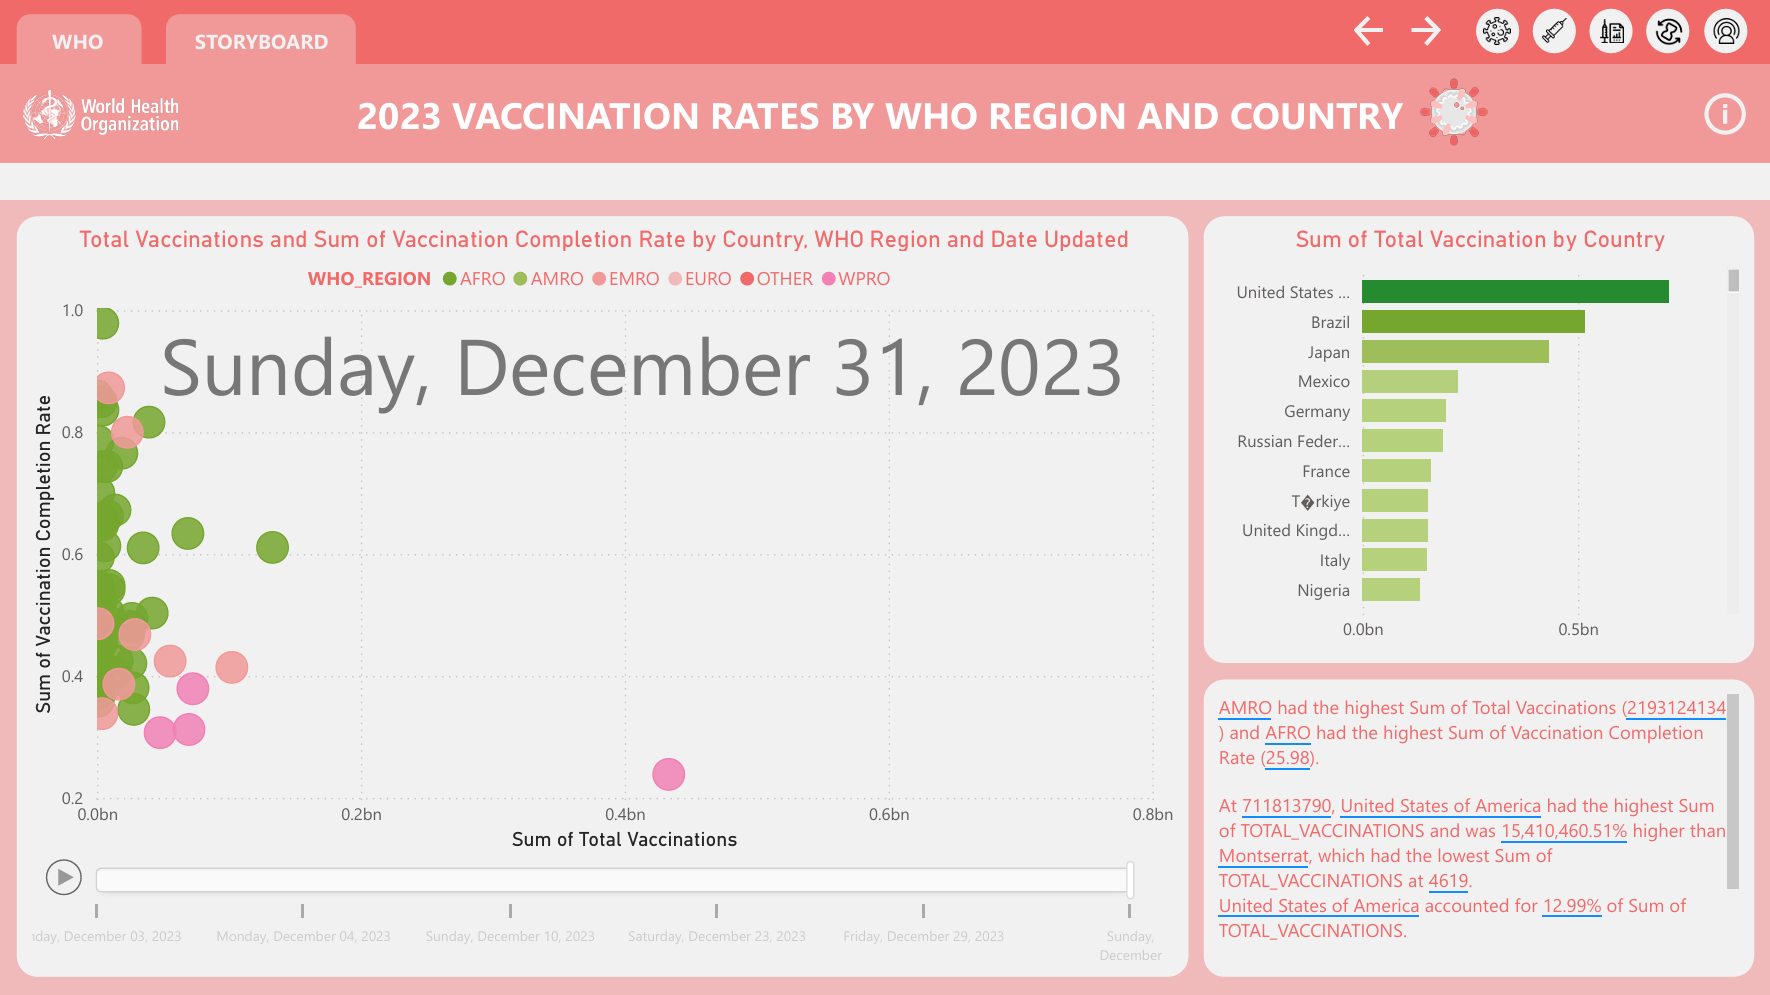

The page's visual inventory and layout, read from the dashboard file:
{"tool":"powerbi","page":{"name":"2023 VACCINATION RATES","canvas":[1280,720],"ordinal":3},"visuals":[{"type":"shape","box":[0,0,1280,47],"z":0},{"type":"shape","box":[0,47,1280,72.1],"z":1000},{"type":"textbox","box":[155.1,57,969.8,52],"z":2000},{"type":"shape","box":[0,119.1,1280,26],"z":3000},{"type":"image","box":[1009.6,45.7,82.5,72.6],"z":5000},{"type":"actionButton","box":[1227,63,42,40],"z":6000},{"type":"scatterChart","title":"Total Vaccinations and Sum of Vaccination Completion Rate by Country, WHO Region and Date Updated","fields":{"X":["Sum(vaccination-data.TOTAL_VACCINATIONS)"],"Y":["Sum(vaccination-data.Vaccination Completion Rate)"],"Series":["vaccination-data.WHO_REGION"],"Category":["vaccination-data.COUNTRY"],"Play":["vaccination-data.DATE_UPDATED"]},"box":[11.8,156.8,846.8,549.8],"z":7000},{"type":"clusteredBarChart","title":"Sum of Total Vaccination by Country","fields":{"Category":["vaccination-data.COUNTRY"],"Y":["Sum(vaccination-data.TOTAL_VACCINATIONS)"]},"box":[870,156.7,398.3,323.3],"z":8000},{"type":"textbox","box":[870,491.7,398.3,215],"z":9000},{"type":"textbox","box":[154.9,59.8,970.3,46.1],"z":10000},{"type":"image","box":[12,57,122.1,52],"z":11000},{"type":"shape","box":[1066.7,7.1,31,31.9],"z":12000},{"type":"shape","box":[1107.9,7.1,31,31.9],"z":13000},{"type":"shape","box":[1149.2,7.1,31,31.9],"z":14000},{"type":"shape","box":[1190.4,7.1,31,31.9],"z":15000},{"type":"shape","box":[1231.6,7.1,31,31.9],"z":16000},{"type":"image","box":[1066.1,7.8,31.7,30],"z":17000},{"type":"image","box":[1107.8,8.3,30,29.1],"z":18000},{"type":"image","box":[1150.9,9.6,27.8,27],"z":19000},{"type":"image","box":[1190.7,7.4,31.5,31.9],"z":20000},{"type":"image","box":[1231.7,7.8,31.7,30.4],"z":21000},{"type":"shape","box":[11.8,10.9,90,39.1],"z":22000},{"type":"textbox","box":[27.3,15.5,58.2,31.8],"z":23000},{"type":"group","id":"g1","title":"Group 1","box":[975.5,8.4,80.9,30],"z":24000},{"type":"actionButton","box":[1015.5,8.4,40.9,30],"z":25000,"group":"g1"},{"type":"shape","box":[120,10.9,137.3,39.1],"z":25000},{"type":"actionButton","box":[975.5,8.4,40,30],"z":26000,"group":"g1"},{"type":"textbox","box":[130,14.5,118.2,31.8],"z":26000}]}

Visuals, with their boxes on the page's 1280x720 design canvas (x1, y1, x2, y2). These are canvas units, not pixel positions in the 1770x995 screenshot, which may show the page scaled, cropped or inside an application window:
shape: <region>0, 0, 1280, 47</region>
shape: <region>0, 47, 1280, 119</region>
textbox: <region>155, 57, 1125, 109</region>
shape: <region>0, 119, 1280, 145</region>
image: <region>1010, 46, 1092, 118</region>
actionButton: <region>1227, 63, 1269, 103</region>
"Total Vaccinations and Sum of Vaccination Completion Rate by Country, WHO Region and Date Updated" scatterChart: <region>12, 157, 859, 707</region>
"Sum of Total Vaccination by Country" clusteredBarChart: <region>870, 157, 1268, 480</region>
textbox: <region>870, 492, 1268, 707</region>
textbox: <region>155, 60, 1125, 106</region>
image: <region>12, 57, 134, 109</region>
shape: <region>1067, 7, 1098, 39</region>
shape: <region>1108, 7, 1139, 39</region>
shape: <region>1149, 7, 1180, 39</region>
shape: <region>1190, 7, 1221, 39</region>
shape: <region>1232, 7, 1263, 39</region>
image: <region>1066, 8, 1098, 38</region>
image: <region>1108, 8, 1138, 37</region>
image: <region>1151, 10, 1179, 37</region>
image: <region>1191, 7, 1222, 39</region>
image: <region>1232, 8, 1263, 38</region>
shape: <region>12, 11, 102, 50</region>
textbox: <region>27, 16, 86, 47</region>
"Group 1" group: <region>976, 8, 1056, 38</region>
actionButton: <region>1016, 8, 1056, 38</region>
shape: <region>120, 11, 257, 50</region>
actionButton: <region>976, 8, 1016, 38</region>
textbox: <region>130, 14, 248, 46</region>
